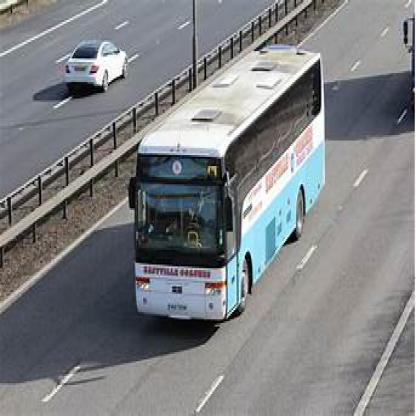bus: (136, 52, 329, 319)
car: (64, 36, 130, 92)
